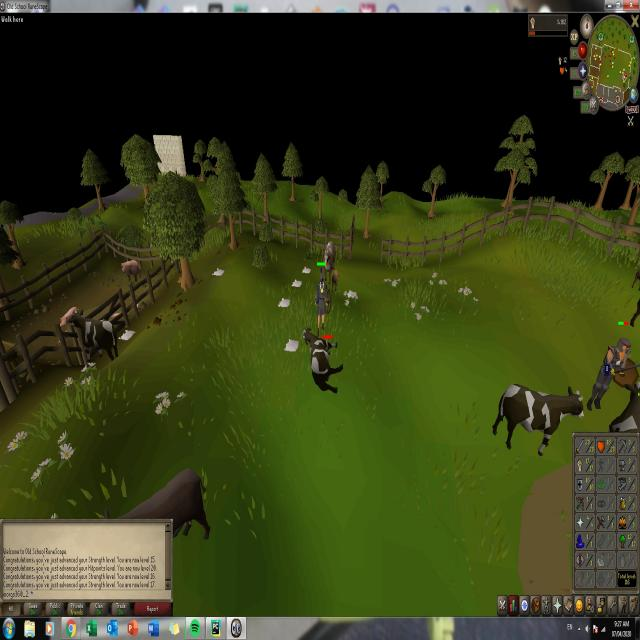cow: (494, 372, 572, 456), (123, 466, 206, 515), (299, 324, 343, 396), (69, 309, 119, 362), (609, 380, 638, 431), (322, 242, 334, 282), (330, 268, 340, 294)
player: (316, 267, 328, 335)
